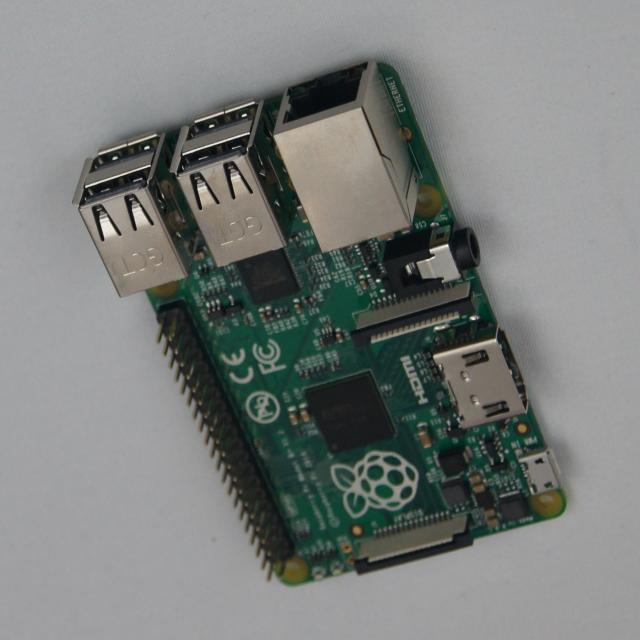Raspberry Pi 1 B-: (74, 62, 566, 585)
